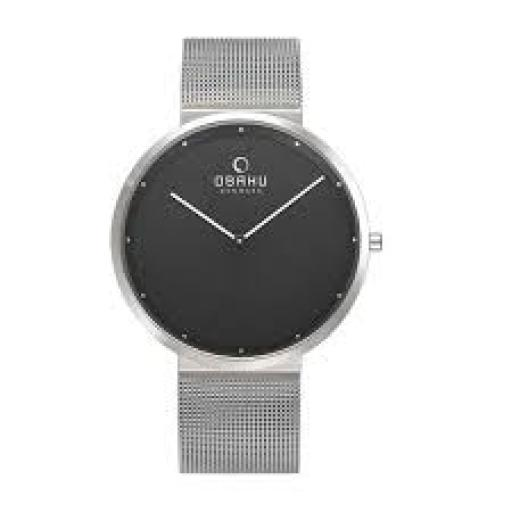KolSaati: (110, 24, 394, 491)
